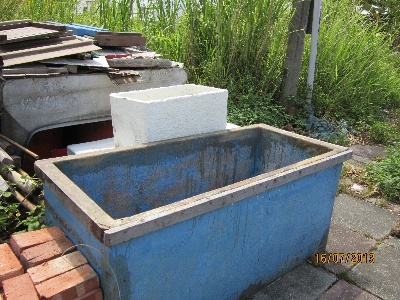box: (34, 123, 356, 300)
styrofoam: (108, 82, 232, 150)
